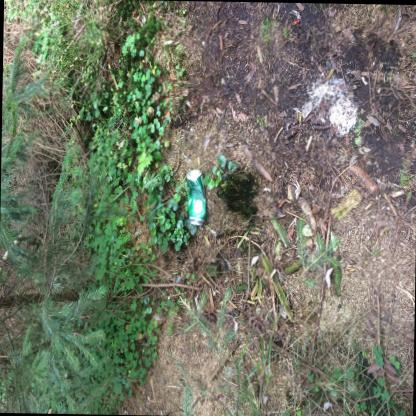Metal: (186, 168, 205, 224)
